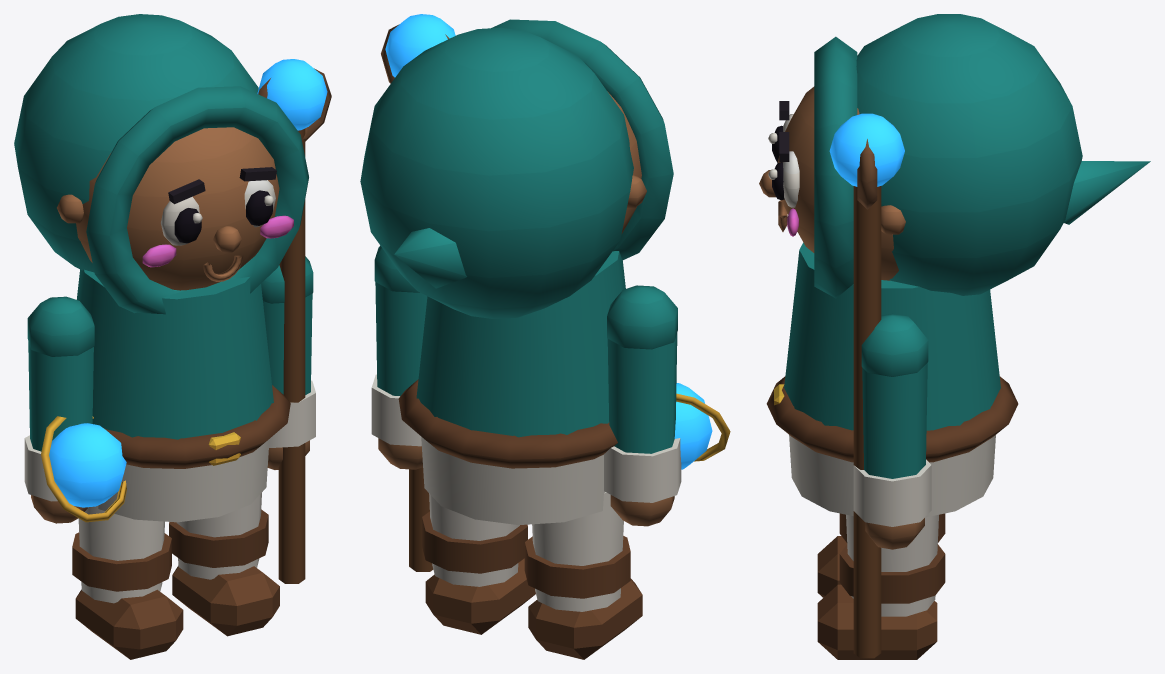
The model's file is hero_delphine.glb.
The picture shows the model from 3 angles, left to right: view 1: azimuth 30°, elevation 25°; view 2: azimuth 150°, elevation 25°; view 3: azimuth 270°, elevation 25°; orthographic projection. The views are drawn at different scales.
Visible parts, largest first — view 1: body_t0_palette, armr_t0_palette, legl_t0_palette, arml_t0_palette, legr_t0_palette, arml_t0_water, armr_t0_water; view 2: body_t0_palette, arml_t0_palette, legl_t0_palette, legr_t0_palette, armr_t0_palette, armr_t0_water, arml_t0_water; view 3: body_t0_palette, armr_t0_palette, legr_t0_palette, armr_t0_water, legl_t0_palette.
Boxes of the visible parts, <box> form: body_t0_palette: <box>14,14,308,522</box>; armr_t0_palette: <box>258,68,331,583</box>; legl_t0_palette: <box>72,506,183,659</box>; arml_t0_palette: <box>24,296,126,523</box>; legr_t0_palette: <box>169,493,279,636</box>; arml_t0_water: <box>49,423,126,507</box>; armr_t0_water: <box>257,59,327,130</box>; body_t0_palette: <box>360,19,673,524</box>; arml_t0_palette: <box>604,285,730,526</box>; legl_t0_palette: <box>524,492,642,659</box>; legr_t0_palette: <box>422,493,535,634</box>; armr_t0_palette: <box>371,24,449,571</box>; armr_t0_water: <box>385,14,455,77</box>; arml_t0_water: <box>674,383,712,469</box>; body_t0_palette: <box>759,14,1150,517</box>; armr_t0_palette: <box>853,139,931,658</box>; legr_t0_palette: <box>817,514,945,659</box>; armr_t0_water: <box>829,113,904,186</box>; legl_t0_palette: <box>817,513,945,597</box>.
Bounding box in the file's own units: 0.292 × 0.5265 × 0.3112.
